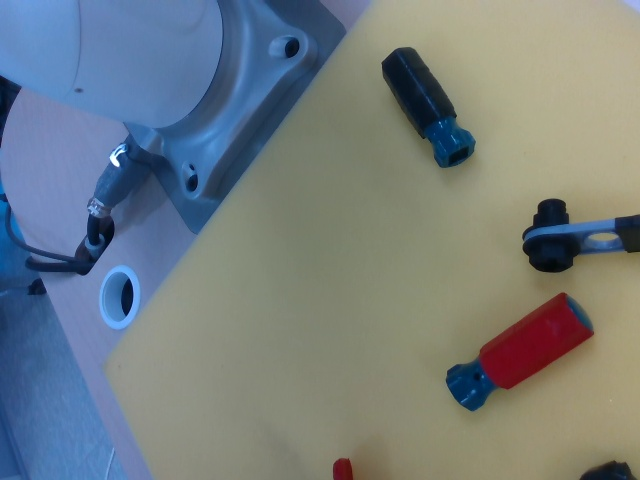part_1_good: (323, 452, 364, 478)
